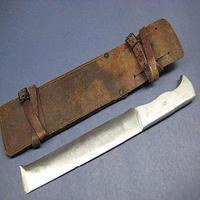knife: (16, 70, 194, 196)
